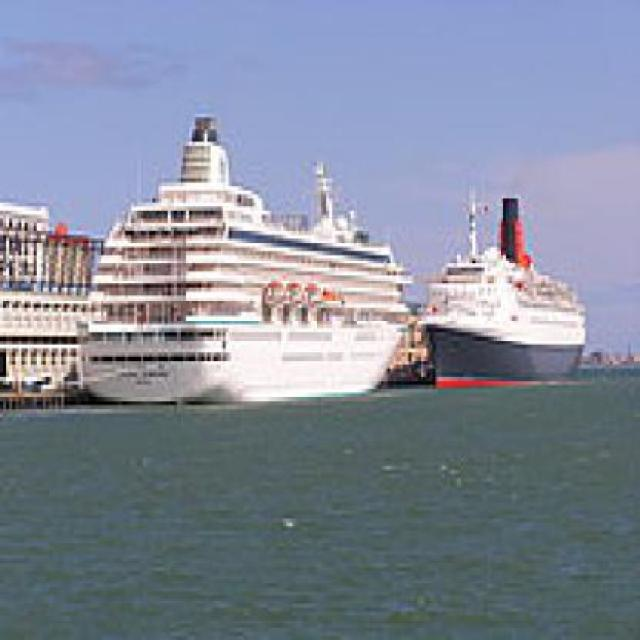cruise: (65, 106, 422, 419), (419, 175, 599, 402)
